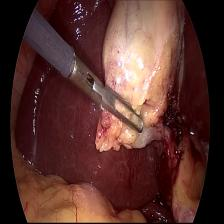Grasper: (64, 43, 149, 140)
